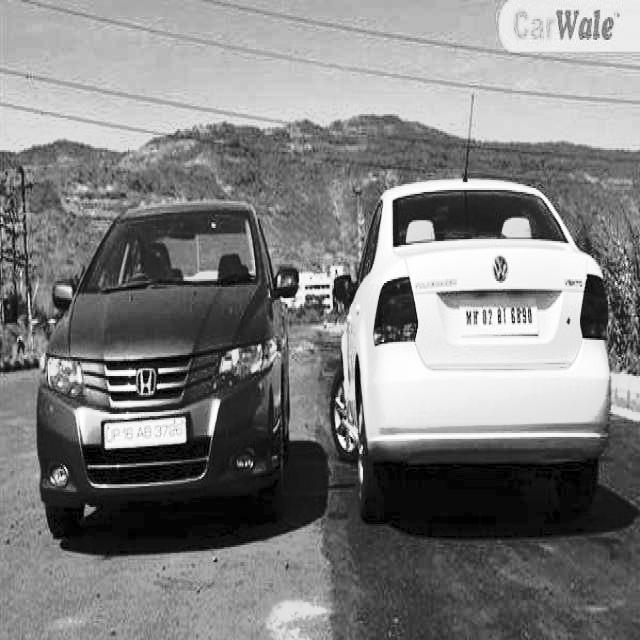Car: (333, 187, 635, 478), (31, 191, 291, 515)
